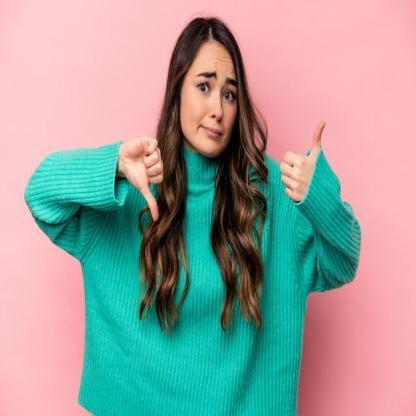thumb_down: (118, 133, 166, 225)
thumb_up: (276, 116, 332, 210)
